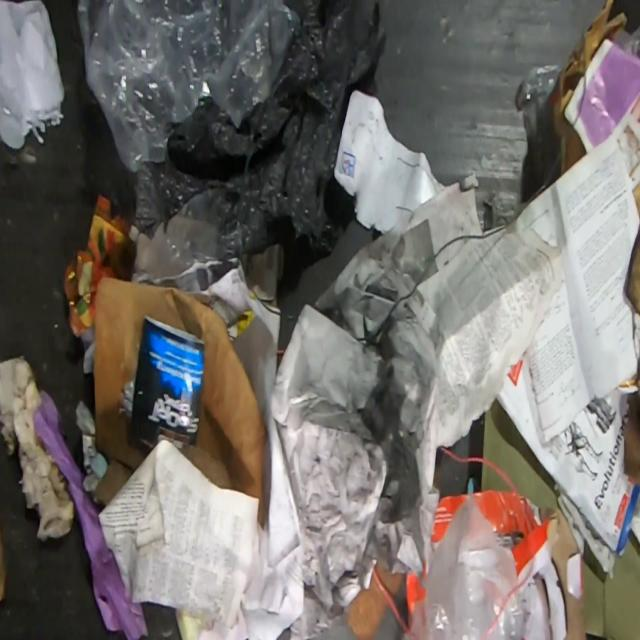cardboard: (92, 275, 264, 509), (482, 398, 640, 637), (429, 489, 588, 640), (551, 0, 629, 174), (623, 226, 640, 483), (404, 571, 422, 623)
rigid_plastic: (514, 61, 568, 185), (610, 24, 639, 77)
soft_plastic: (108, 0, 388, 263), (74, 0, 300, 173), (404, 490, 532, 640), (128, 186, 230, 283)
